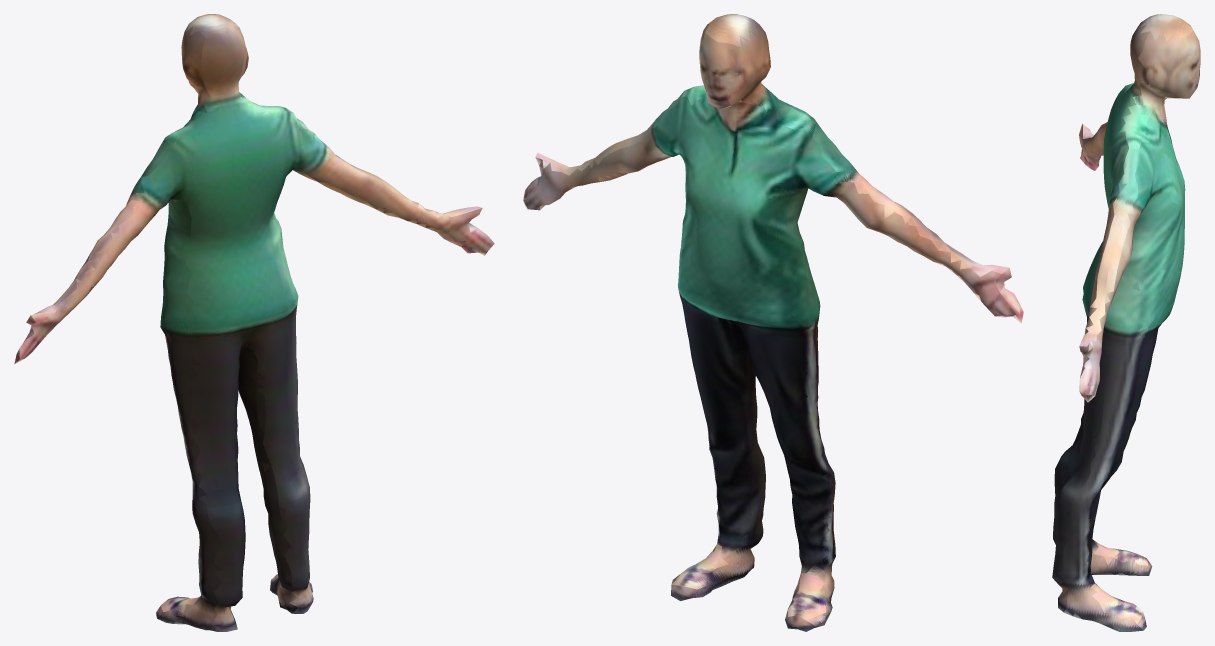
The picture shows the model from 3 angles, left to right: view 1: azimuth 30°, elevation 25°; view 2: azimuth 150°, elevation 25°; view 3: azimuth 270°, elevation 25°; orthographic projection. The views are drawn at different scales.
Visible parts, largest first — view 1: world; view 2: world; view 3: world.
Boxes of the visible parts, bbox=[...] form: world: bbox=[14, 14, 494, 631]; world: bbox=[523, 14, 1023, 631]; world: bbox=[1052, 14, 1200, 631].
Bounding box in the file's own units: 0.8674 × 1 × 0.2324.
Materials: 1 (1 with a texture image).
